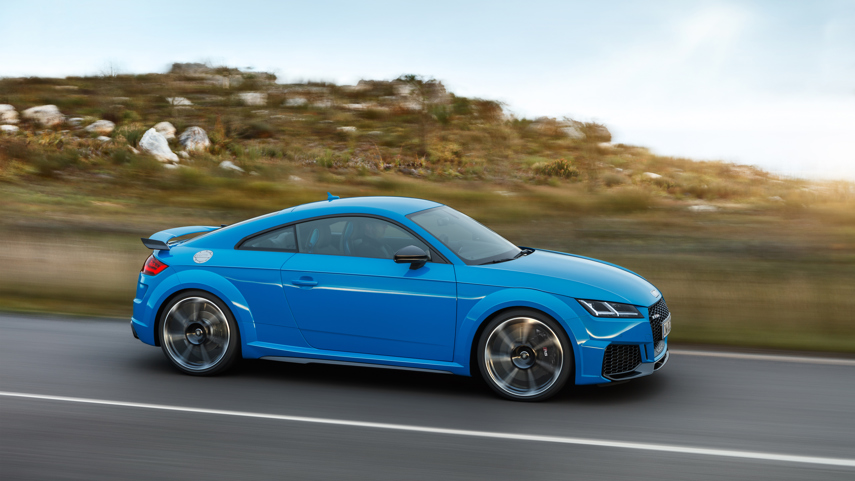car: (121, 188, 677, 402)
